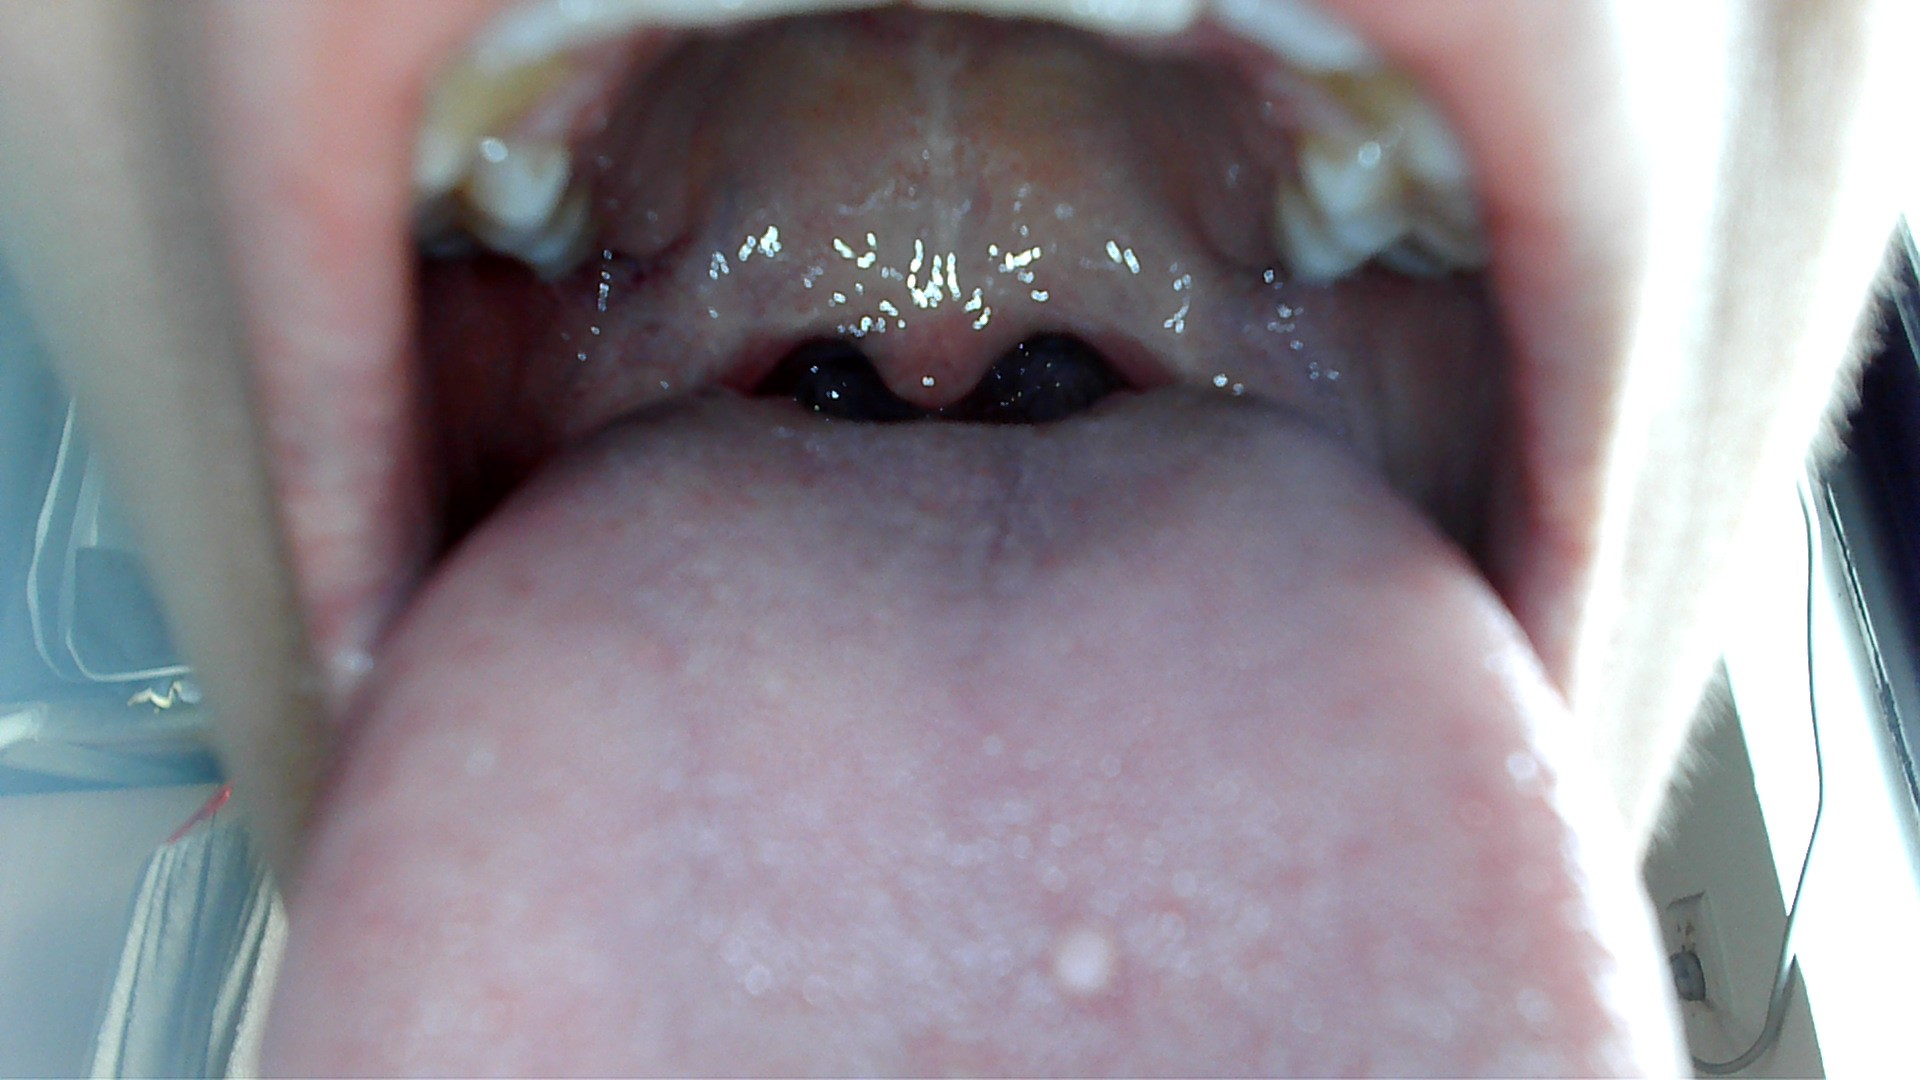throat: (603, 276, 810, 392), (1091, 272, 1254, 384)
